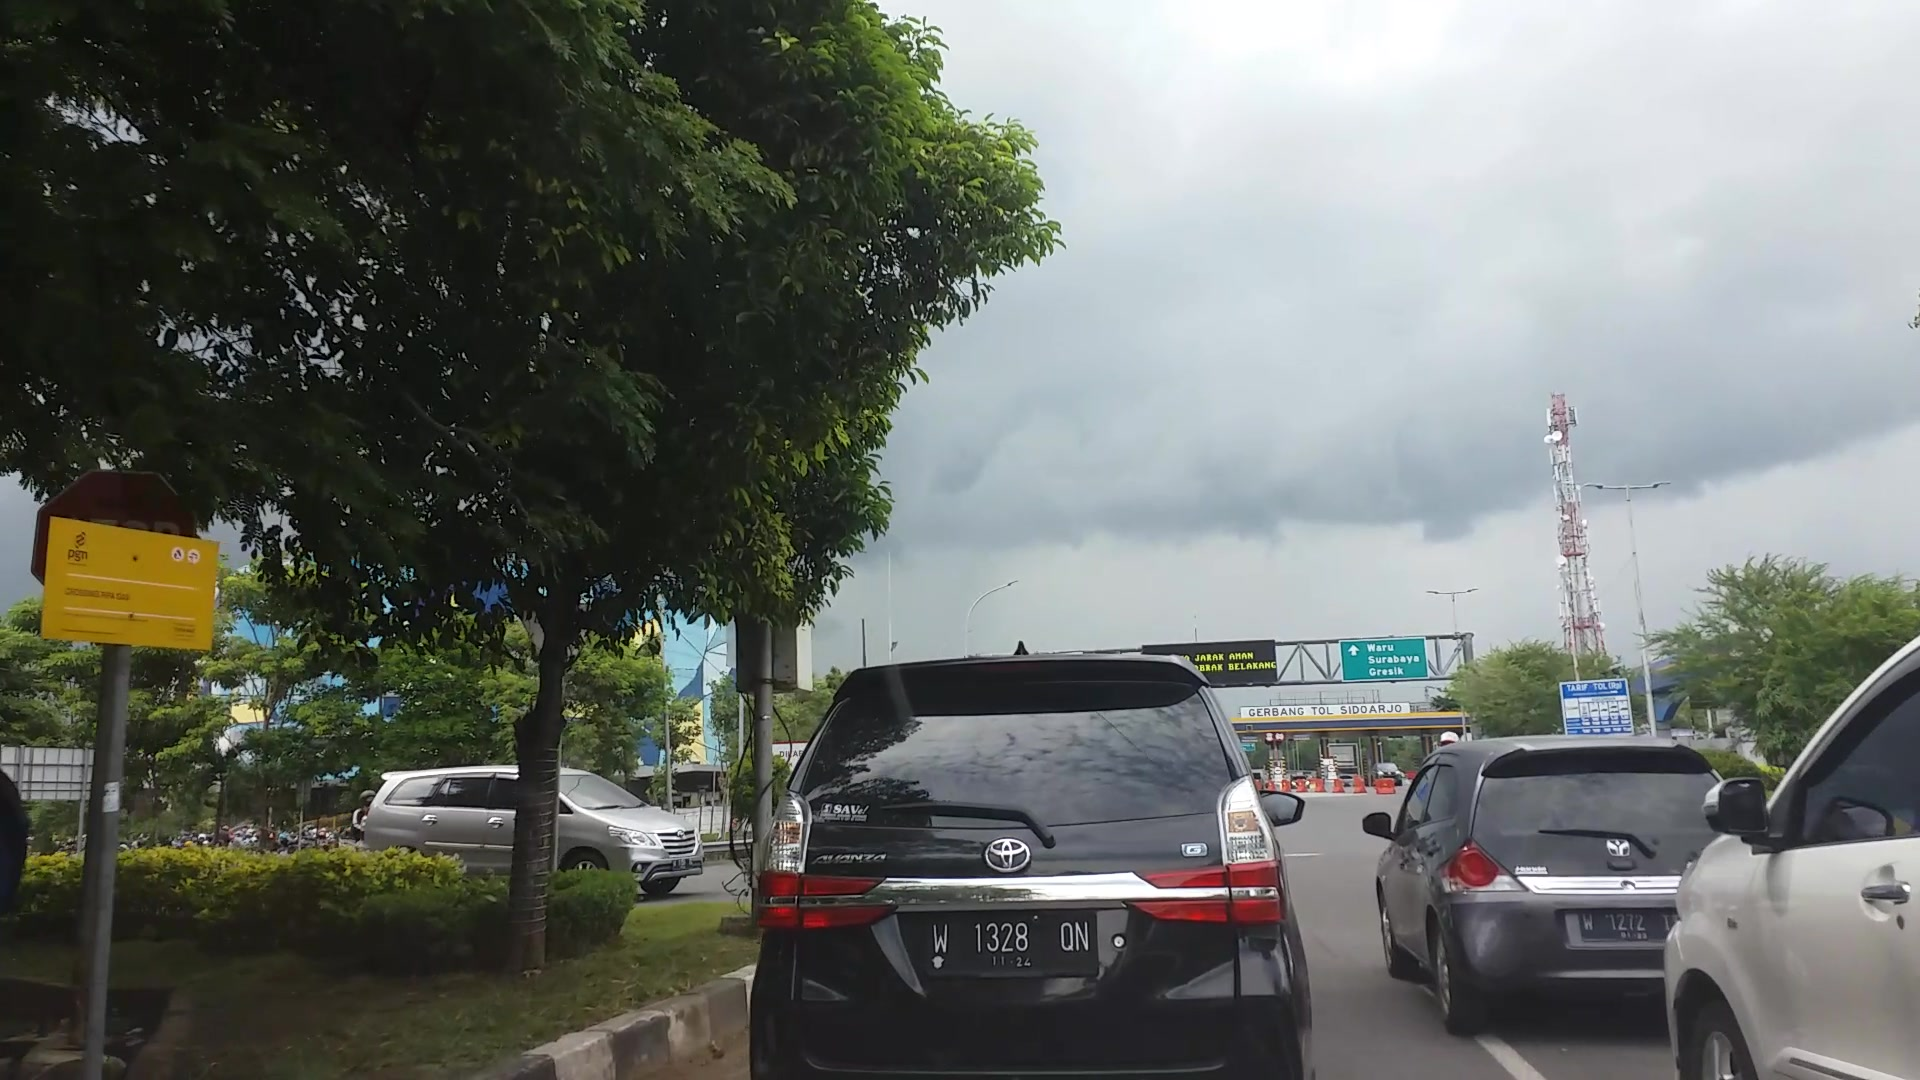plate_positive: (923, 911, 1098, 976)
